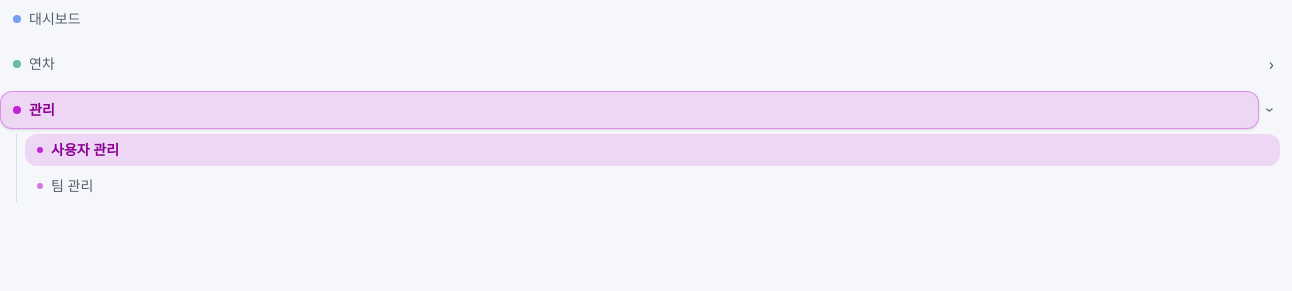
Test: AppNav 아코디언 › 현재 위치 유지하며 다른 섹션을 미리 펼칠 수 있다(최대 2개)
Click the button named "연차 하위 메뉴": (1272, 64) x1=1263 y1=44 x2=1280 y2=84
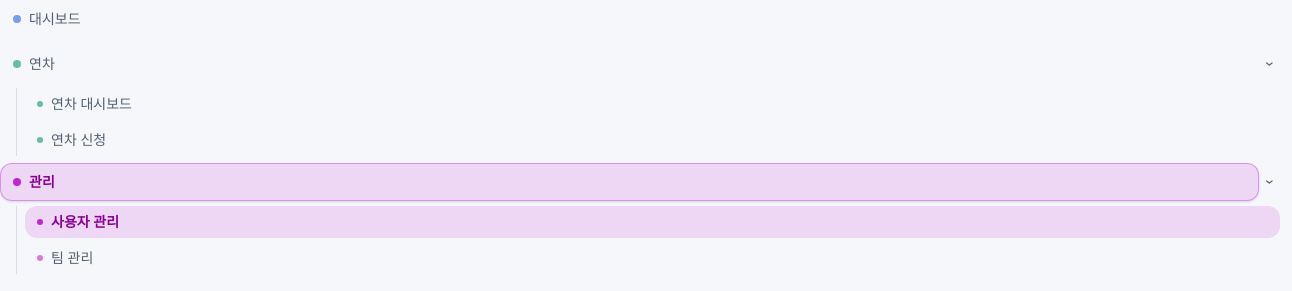
expect the link "사용자 관리" is shown: met, box x1=25 y1=206 x2=1280 y2=238
expect the link "연차 신청" is shown: met, box x1=37 y1=130 x2=106 y2=149
